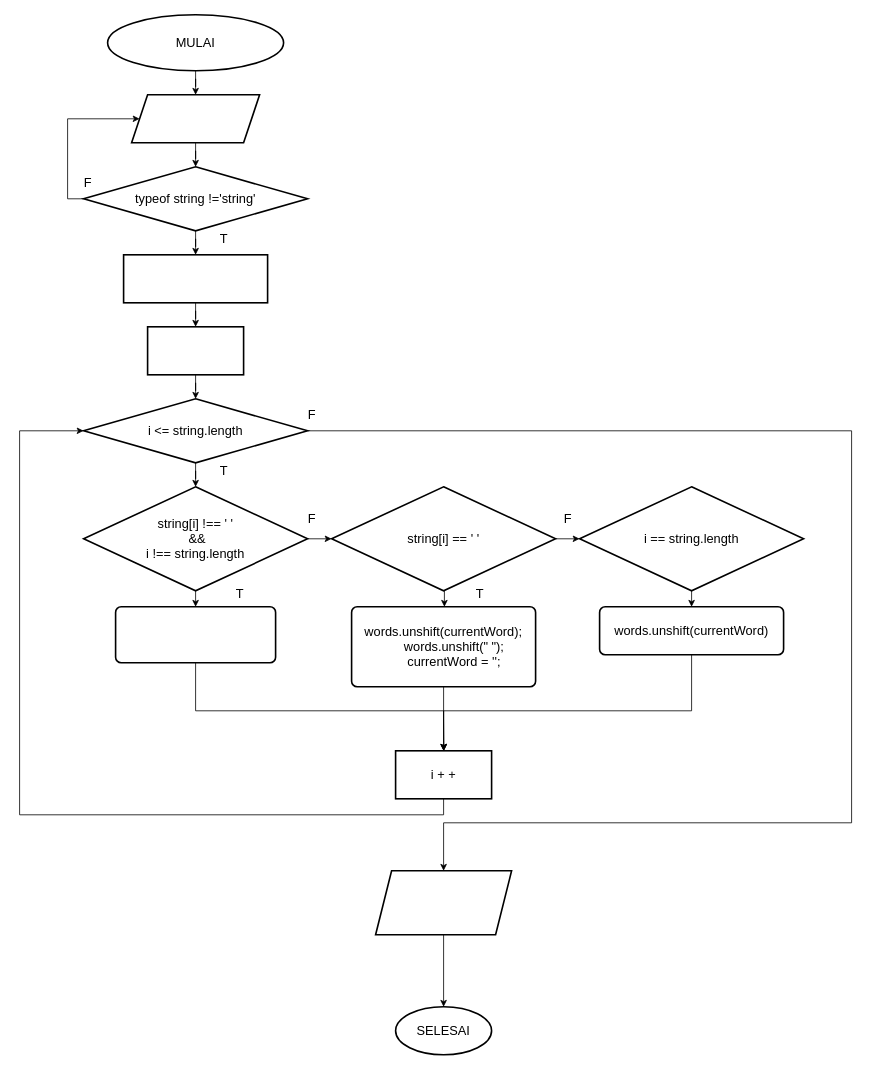
Some shapes in this 872 by 1069 pixel diagram are drawn without their labels. Here are the shapes that lost their labels. From the top down, the centre of each, then its label:
pixel 195 118: INPUT string
pixel 195 278: words = [ ]; currentwords = ' ';
pixel 195 350: i = 0
pixel 195 634: currentWord += string[i]
pixel 443 902: OUTPUT words.join("")
